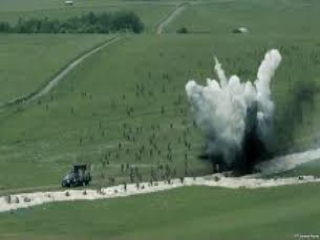smoke: (184, 50, 287, 183)
